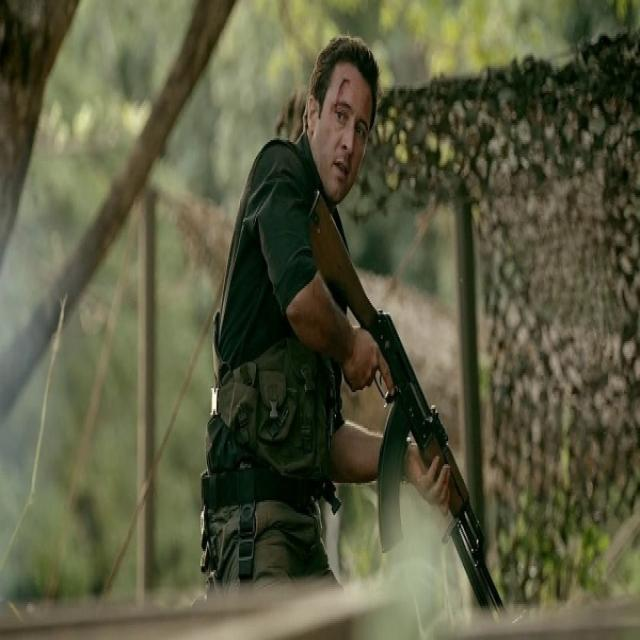rifle: (305, 190, 507, 624)
